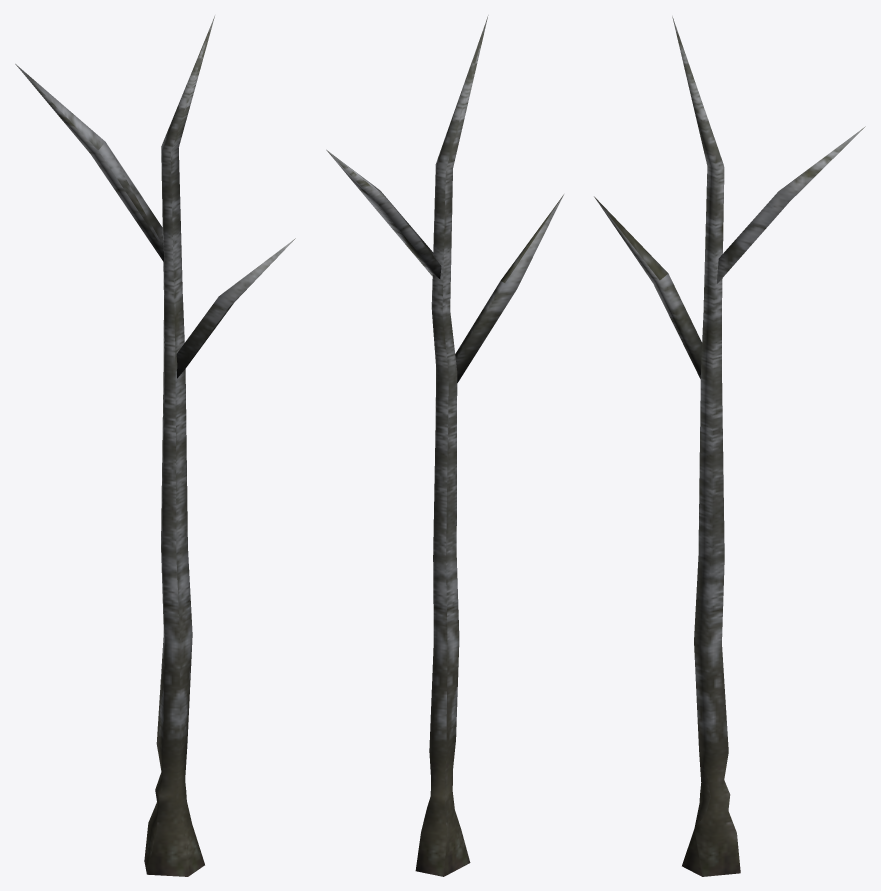
Rendered from forest_shrub_04.glb.
3 renders of one model, left to right at view 1: azimuth 90°, elevation 25°; view 2: azimuth 150°, elevation 25°; view 3: azimuth 270°, elevation 25°, orthographic. The views are drawn at different scales.
Visible parts, largest first — view 1: Tree_Trunk_02_Tree_Trunk_02_0; view 2: Tree_Trunk_02_Tree_Trunk_02_0; view 3: Tree_Trunk_02_Tree_Trunk_02_0.
Boxes of the visible parts, x1,y1,x2,y2 form: Tree_Trunk_02_Tree_Trunk_02_0: (15,16,295,876); Tree_Trunk_02_Tree_Trunk_02_0: (326,15,563,876); Tree_Trunk_02_Tree_Trunk_02_0: (594,16,865,876).
Size of the model in its own units: 0.3177 by 2.5 by 0.7379.
1 material, 1 textured.
